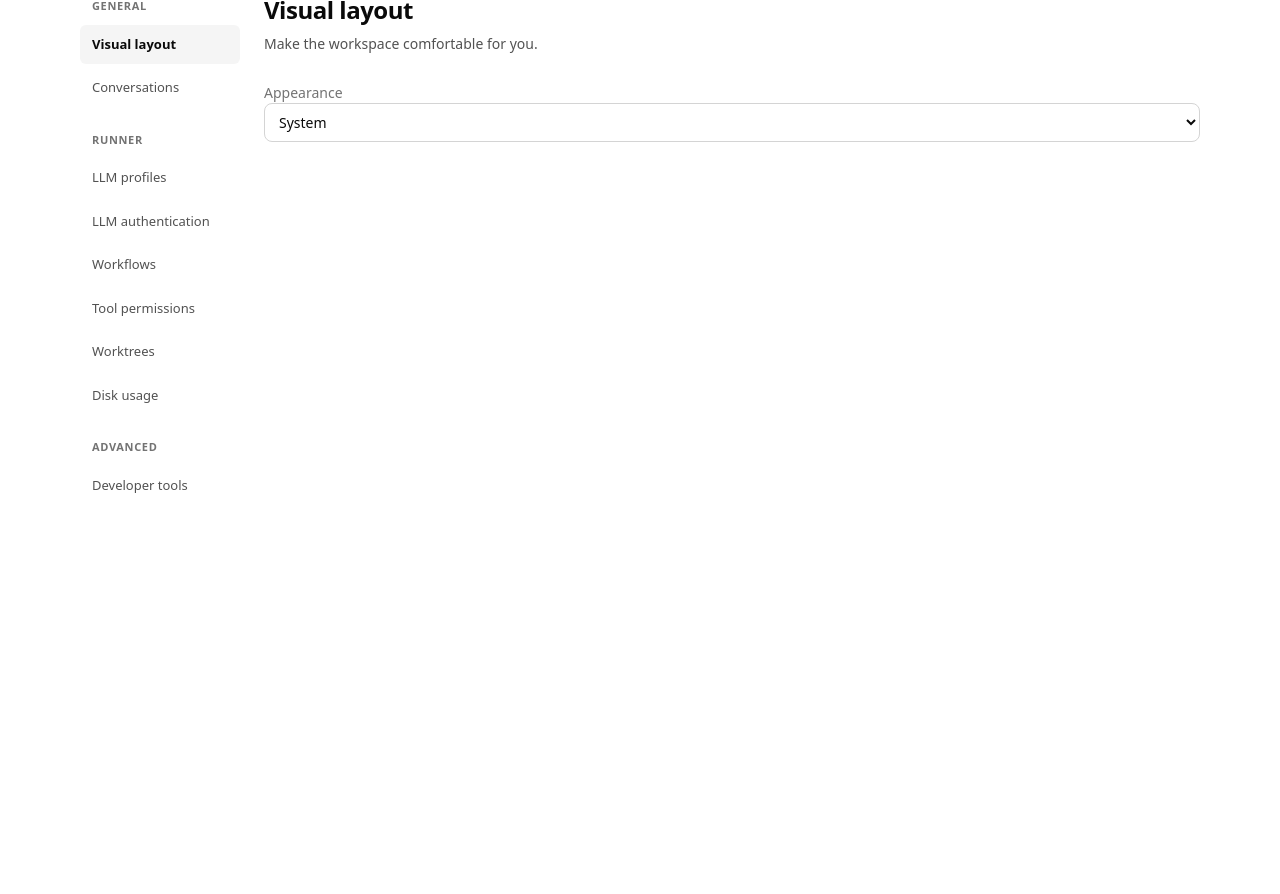
Test: shows raw shared values, configured profiles, and no invented inheritance
Click the button "LLM profiles": [160, 178] box [80, 158, 240, 198]
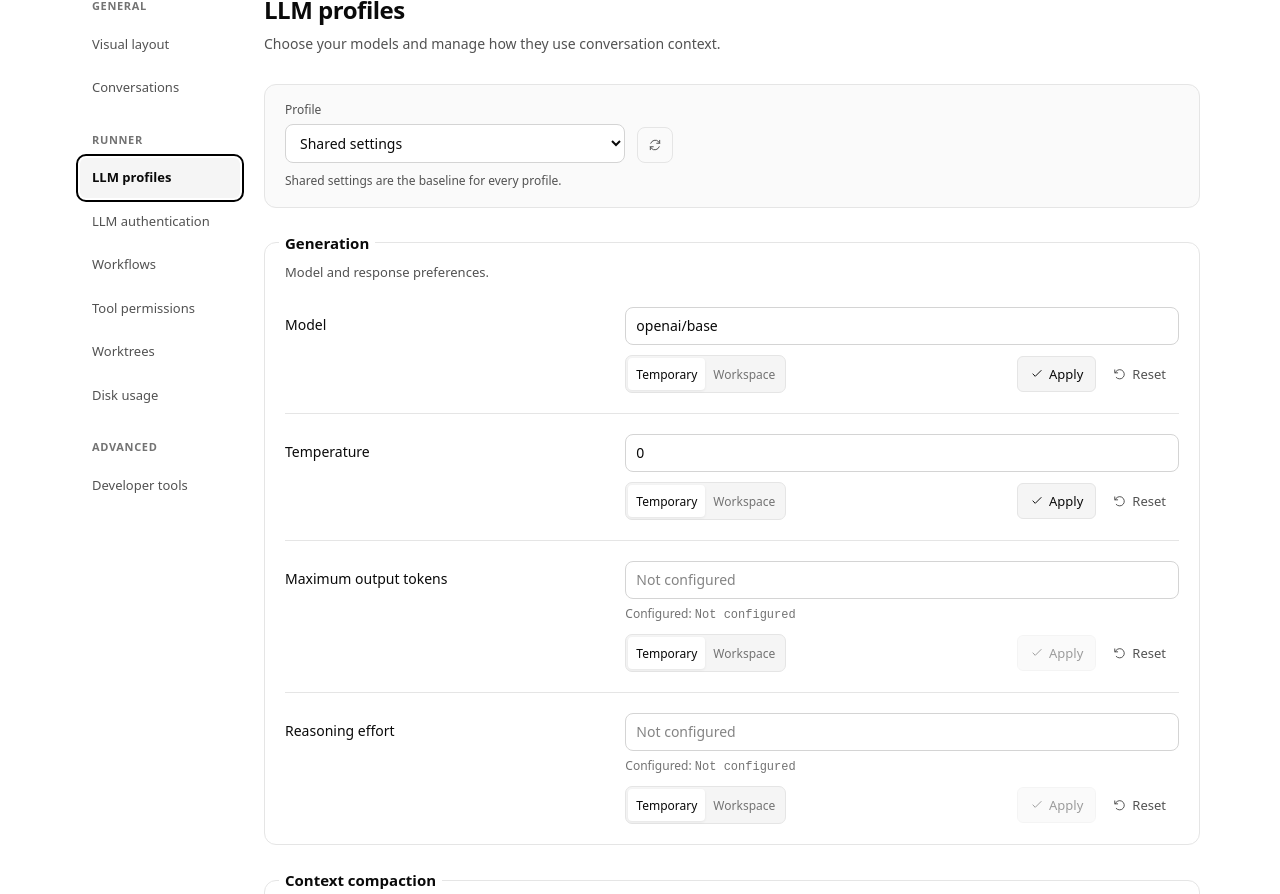
expect the form named "Edit Model" is shown: met, box [285, 287, 1179, 414]
expect the field labelled "Model" holds "openai/base": met, box [625, 307, 1179, 345]
expect the number field labelled "Temperature" holds "0": met, box [625, 434, 1179, 472]
Select "strong" in the dropdown named "Edit settings for": [455, 144] box [285, 124, 625, 163]
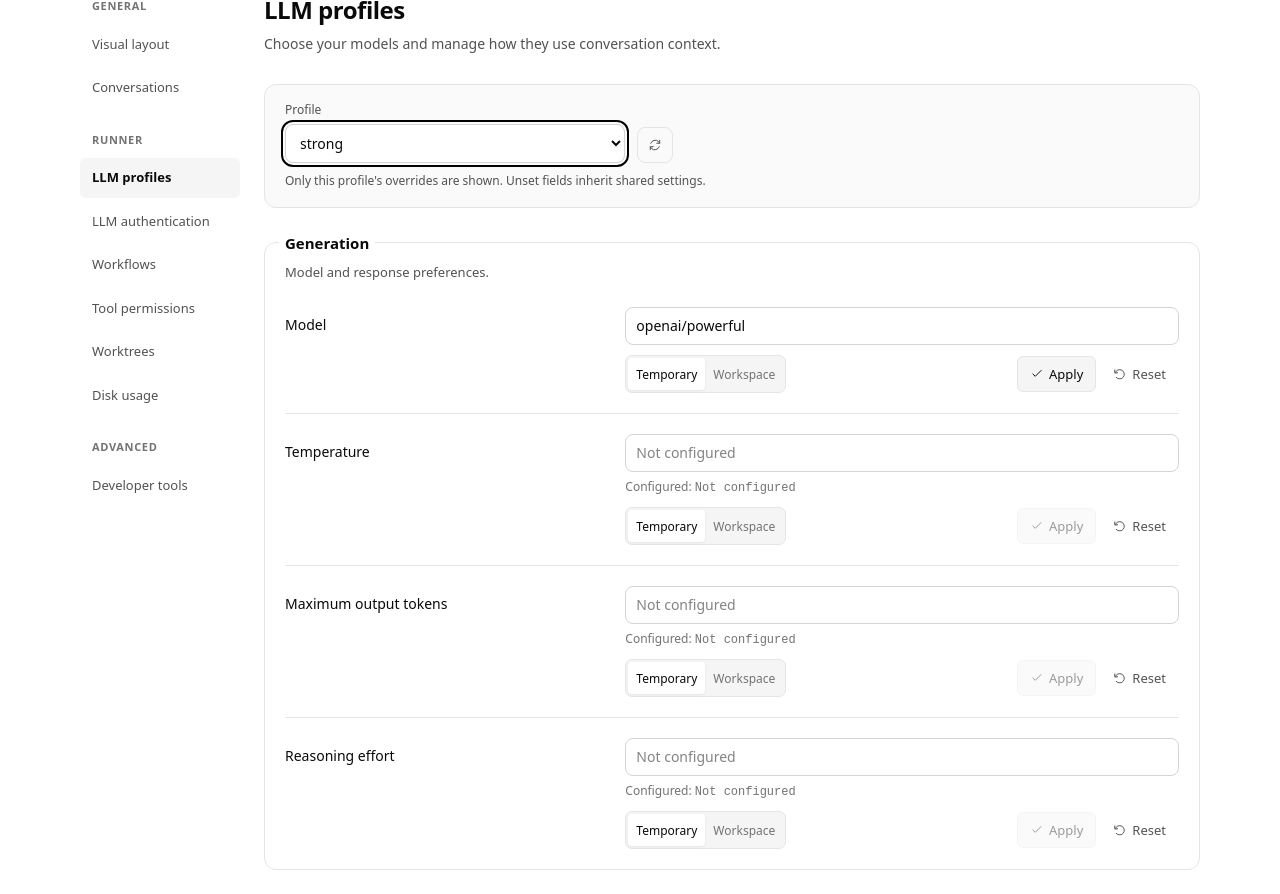
expect the 1st text "Not configured" is shown: met, box [695, 481, 796, 495]
expect the field labelled "Model" holds "openai/powerful": met, box [625, 307, 1179, 345]
expect the number field labelled "Temperature" is empty: met, box [625, 434, 1179, 472]
Select "Shared settings" in the dropdown named "Edit settings for": [455, 144] box [285, 124, 625, 163]
(page scrolled)
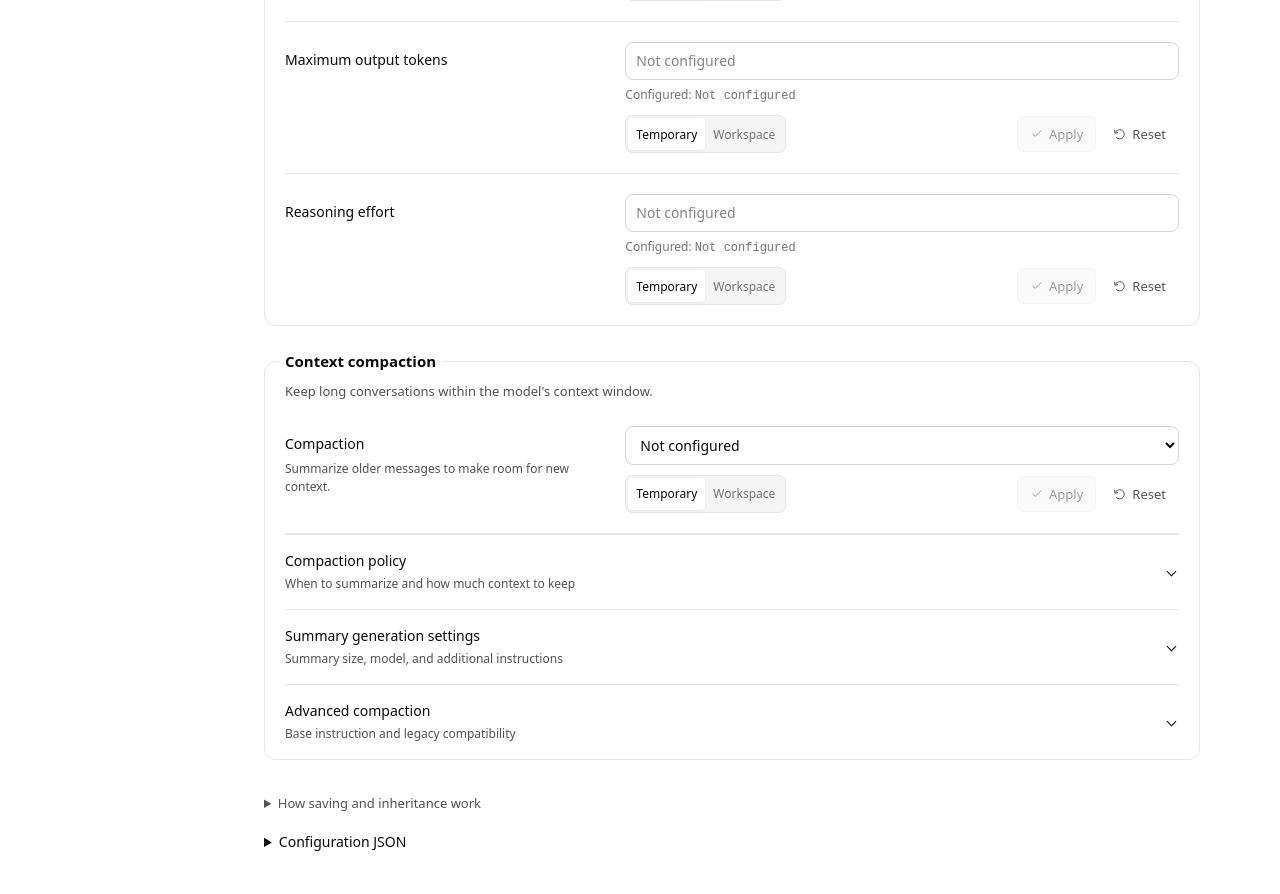
Click the heading "Configuration JSON": [343, 842] box [279, 832, 406, 851]
(page scrolled)
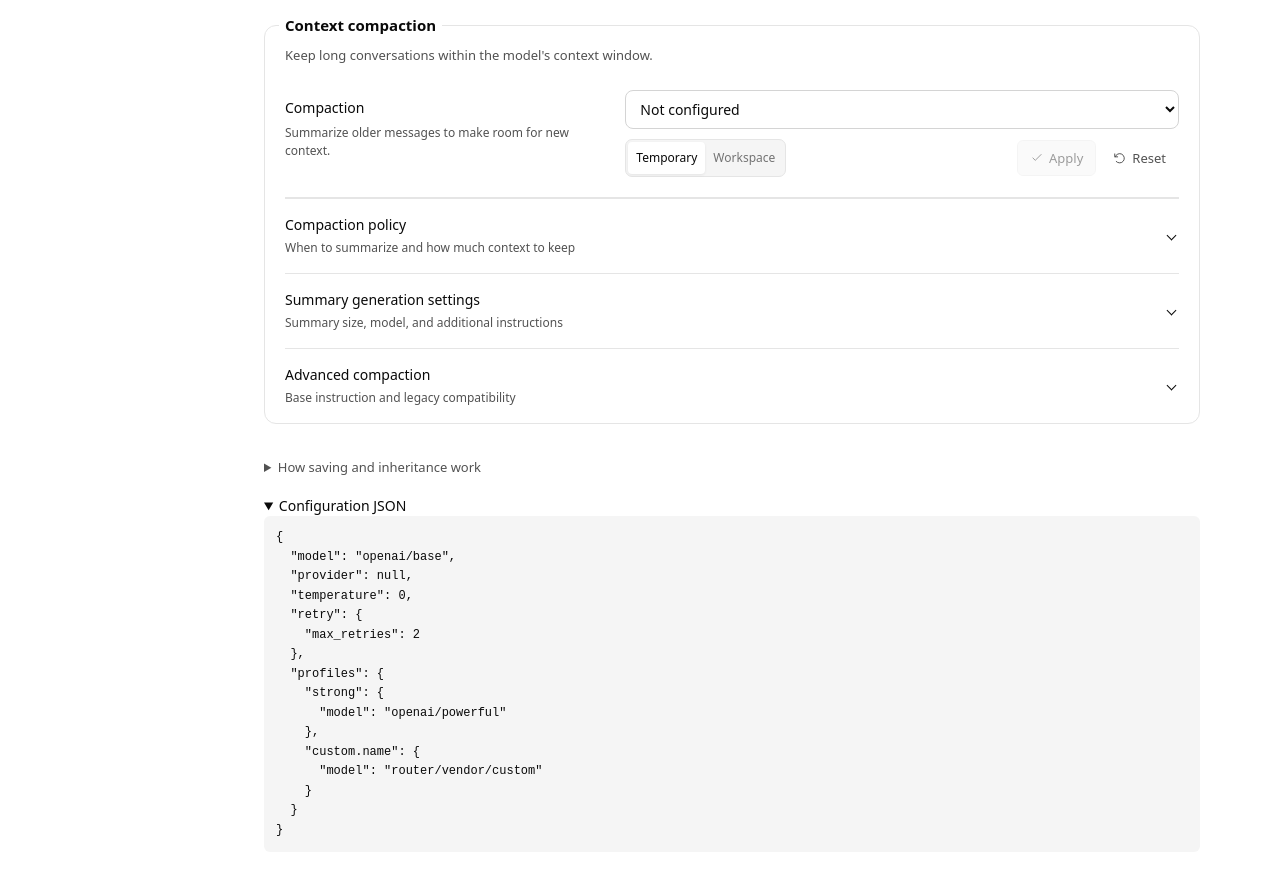
expect the text "\"provider\": null" is shown: met, box [276, 530, 542, 837]
